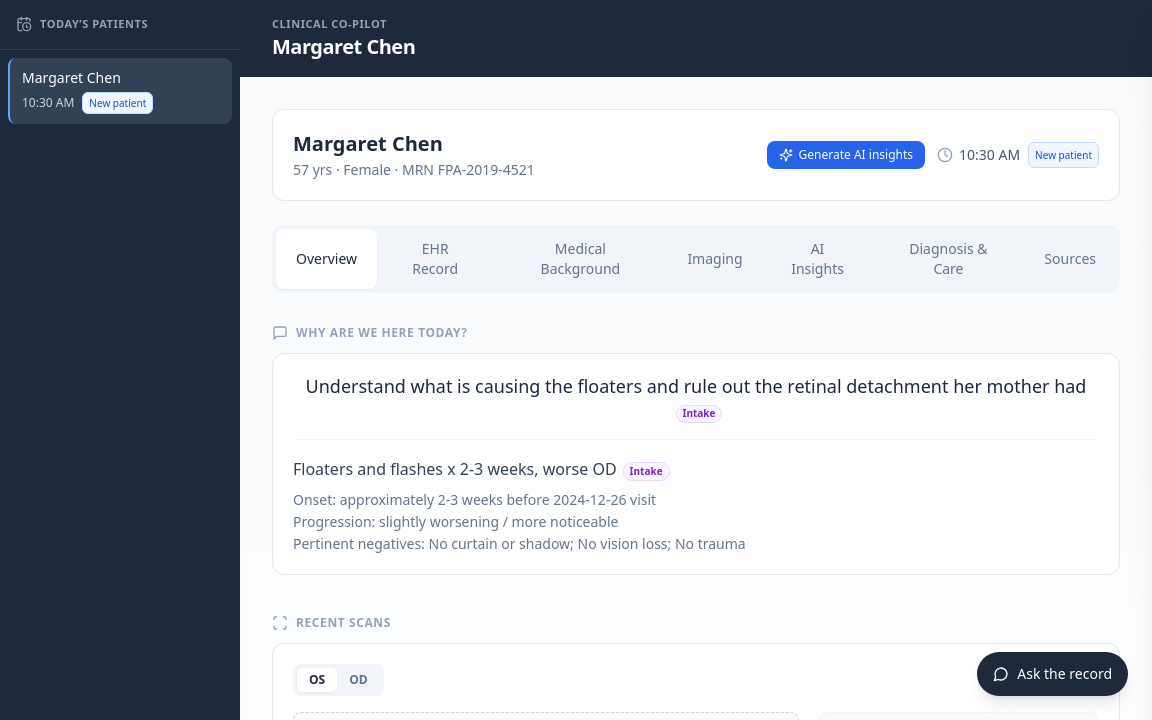
Test: EHR Record tab › shows an empty state with a Sync button and a linking hint before the first sync
Click the tab "EHR Record".
click(435, 258)  # box left=377, top=228, right=493, bottom=288
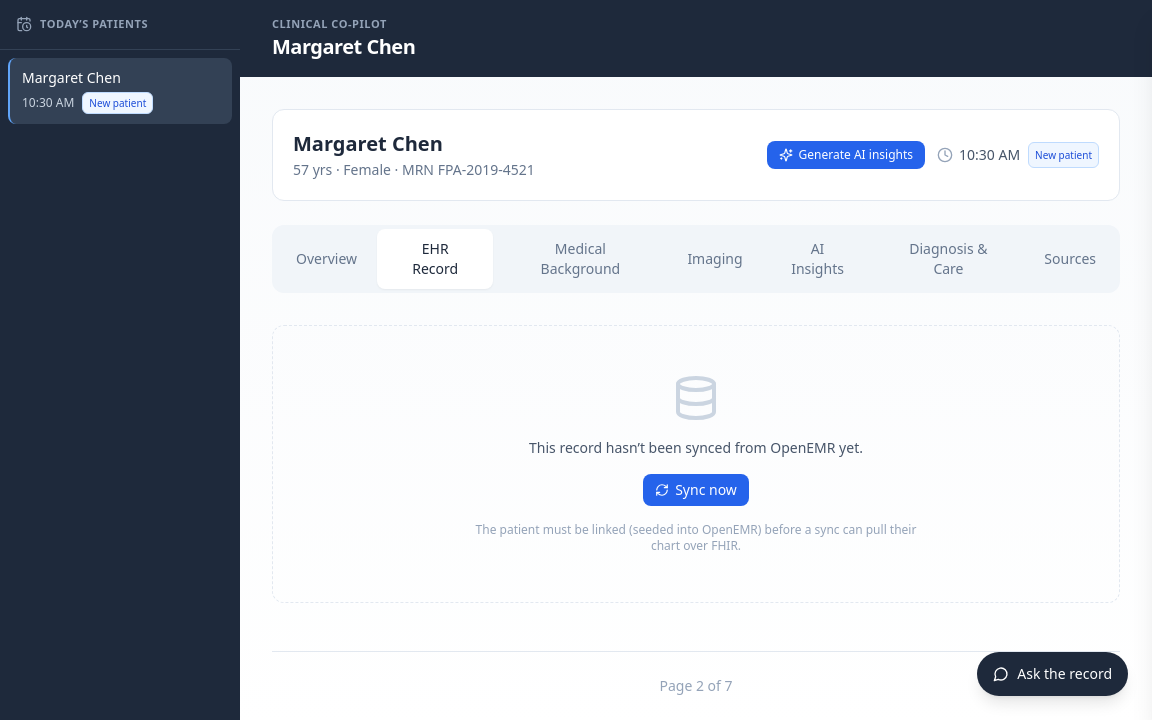
Expected: the text "This record hasn’t been synced from OpenEMR yet." is shown, left=529, top=438, right=863, bottom=456
Expected: the button "Sync now" is shown, left=643, top=474, right=749, bottom=506
Expected: the text "must be linked (seeded into OpenEMR)" is shown, left=476, top=520, right=916, bottom=554
